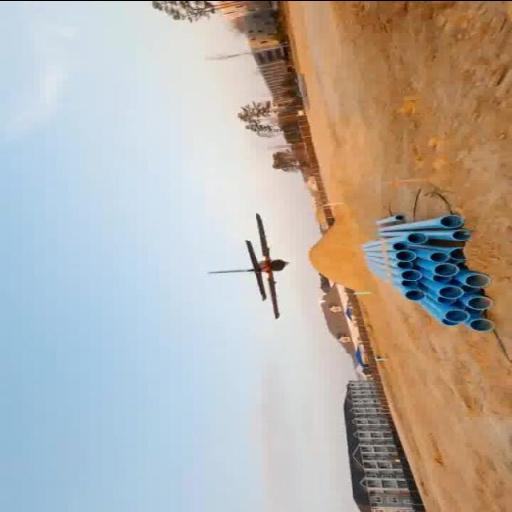uav: (200, 210, 302, 326)
